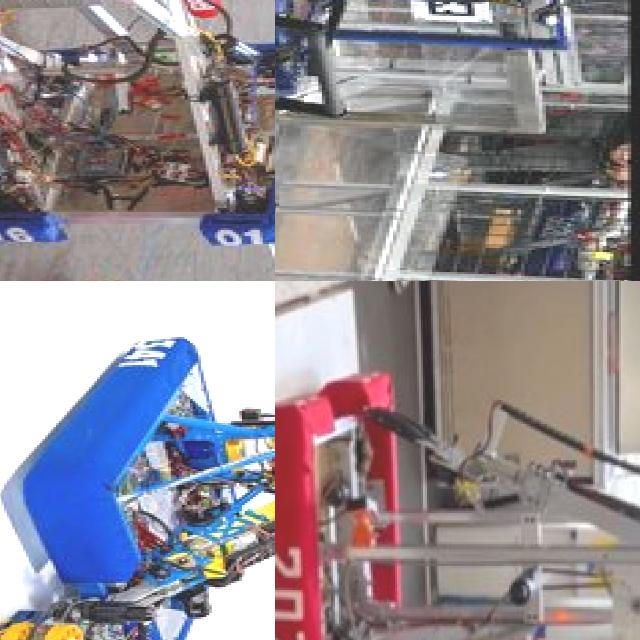FRC-Robots: (275, 342, 640, 640), (0, 290, 275, 640), (0, 0, 257, 264), (275, 0, 587, 141)
